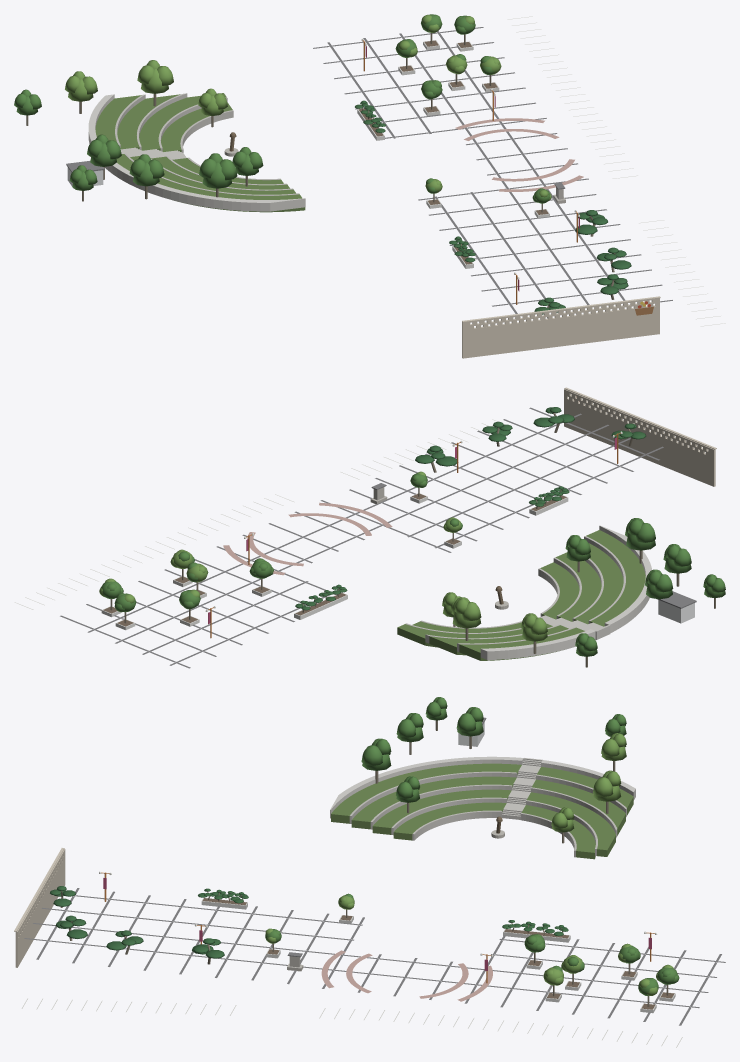
The picture shows the model from 3 angles, top to bottom: view 1: azimuth 30°, elevation 25°; view 2: azimuth 150°, elevation 25°; view 3: azimuth 270°, elevation 25°; orthographic projection. The views are drawn at different scales.
Parts seen in each view (by area): view 1: hoyeon-garden__wall-beige, hoyeon-garden__band-dark, hoyeon-garden__terrace-grass, hoyeon-garden__leaf, hoyeon-garden__leaf-light, hoyeon-garden__court-coping, hoyeon-garden__pine, hoyeon-garden__court-stone, hoyeon-garden__band-brick, hoyeon-garden__mark-white, hoyeon-garden__planter-tile, hoyeon-garden__soil (+1 smaller); view 2: hoyeon-garden__terrace-grass, hoyeon-garden__band-dark, hoyeon-garden__wall-beige, hoyeon-garden__leaf, hoyeon-garden__leaf-light, hoyeon-garden__pine, hoyeon-garden__court-coping, hoyeon-garden__court-stone, hoyeon-garden__planter-tile, hoyeon-garden__band-brick, hoyeon-garden__mark-white, hoyeon-garden__soil (+3 smaller); view 3: hoyeon-garden__terrace-grass, hoyeon-garden__band-dark, hoyeon-garden__court-stone, hoyeon-garden__leaf, hoyeon-garden__leaf-light, hoyeon-garden__pine, hoyeon-garden__court-coping, hoyeon-garden__wall-beige, hoyeon-garden__planter-tile, hoyeon-garden__stair-stone, hoyeon-garden__band-brick, hoyeon-garden__soil (+2 smaller).
Part boxes in pixels (<box>): hoyeon-garden__wall-beige: <box>462,296,660,358</box>; hoyeon-garden__band-dark: <box>66,27,672,317</box>; hoyeon-garden__terrace-grass: <box>95,93,305,212</box>; hoyeon-garden__leaf: <box>14,14,550,203</box>; hoyeon-garden__leaf-light: <box>65,14,551,200</box>; hoyeon-garden__court-coping: <box>88,94,305,211</box>; hoyeon-garden__pine: <box>355,100,631,314</box>; hoyeon-garden__court-stone: <box>115,93,299,195</box>; hoyeon-garden__band-brick: <box>455,118,583,191</box>; hoyeon-garden__mark-white: <box>507,16,725,326</box>; hoyeon-garden__planter-tile: <box>357,40,549,268</box>; hoyeon-garden__soil: <box>358,40,548,264</box>; hoyeon-garden__terrace-grass: <box>397,530,645,660</box>; hoyeon-garden__band-dark: <box>60,407,696,668</box>; hoyeon-garden__wall-beige: <box>564,387,716,486</box>; hoyeon-garden__leaf: <box>101,473,725,656</box>; hoyeon-garden__leaf-light: <box>99,471,547,641</box>; hoyeon-garden__pine: <box>295,407,646,610</box>; hoyeon-garden__court-coping: <box>480,525,651,660</box>; hoyeon-garden__court-stone: <box>405,536,625,651</box>; hoyeon-garden__planter-tile: <box>101,493,568,630</box>; hoyeon-garden__band-brick: <box>223,502,392,575</box>; hoyeon-garden__mark-white: <box>14,419,504,609</box>; hoyeon-garden__soil: <box>103,494,566,626</box>; hoyeon-garden__terrace-grass: <box>331,763,633,859</box>; hoyeon-garden__band-dark: <box>24,717,725,1025</box>; hoyeon-garden__court-stone: <box>349,771,626,857</box>; hoyeon-garden__leaf: <box>265,697,679,996</box>; hoyeon-garden__leaf-light: <box>265,733,673,995</box>; hoyeon-garden__pine: <box>50,886,568,958</box>; hoyeon-garden__court-coping: <box>330,756,635,818</box>; hoyeon-garden__wall-beige: <box>14,848,65,967</box>; hoyeon-garden__planter-tile: <box>201,897,675,1013</box>; hoyeon-garden__stair-stone: <box>502,758,542,819</box>; hoyeon-garden__band-brick: <box>321,950,492,1001</box>; hoyeon-garden__soil: <box>202,898,674,1009</box>.
Size of the model in its own units: 108 by 20.38 by 116.
